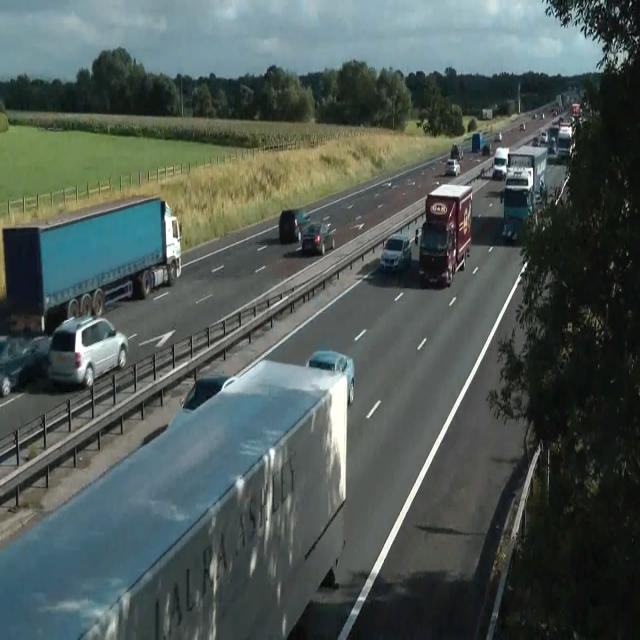bus: (0, 333, 50, 398), (305, 350, 355, 406), (180, 374, 237, 414), (518, 258, 530, 284), (444, 158, 460, 176), (450, 143, 463, 161), (482, 142, 492, 156), (494, 132, 502, 142), (519, 122, 525, 130), (552, 108, 558, 116), (532, 113, 537, 119), (542, 112, 544, 119)
car: (0, 353, 350, 638)
jeep: (46, 313, 128, 389), (379, 232, 412, 274), (300, 220, 334, 255), (278, 207, 310, 244), (492, 146, 509, 180)
minibus: (2, 194, 182, 335), (416, 183, 472, 286), (501, 145, 547, 241), (556, 122, 572, 158), (471, 131, 483, 153), (482, 108, 492, 119)
